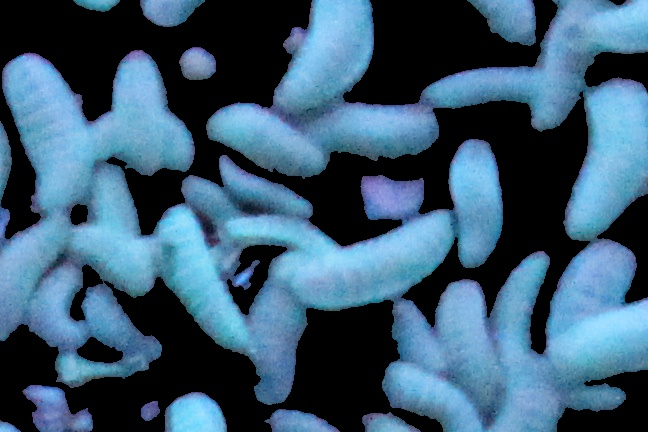larvae: (288, 209, 453, 311), (563, 75, 648, 240), (156, 205, 249, 354), (2, 54, 88, 210), (268, 1, 376, 109), (1, 211, 71, 344), (529, 1, 601, 130), (205, 100, 328, 175), (549, 239, 636, 341), (303, 100, 440, 160), (436, 280, 499, 410), (546, 301, 648, 379), (85, 106, 196, 173), (447, 138, 504, 268), (249, 287, 308, 404), (382, 363, 482, 432), (72, 222, 156, 296), (492, 247, 551, 350), (218, 155, 313, 216), (500, 342, 564, 432), (219, 212, 337, 254), (423, 63, 535, 107), (29, 264, 85, 349), (385, 301, 450, 372), (79, 283, 139, 352), (86, 163, 142, 236), (576, 1, 648, 55), (109, 51, 169, 113), (463, 1, 538, 47), (174, 178, 236, 220)
